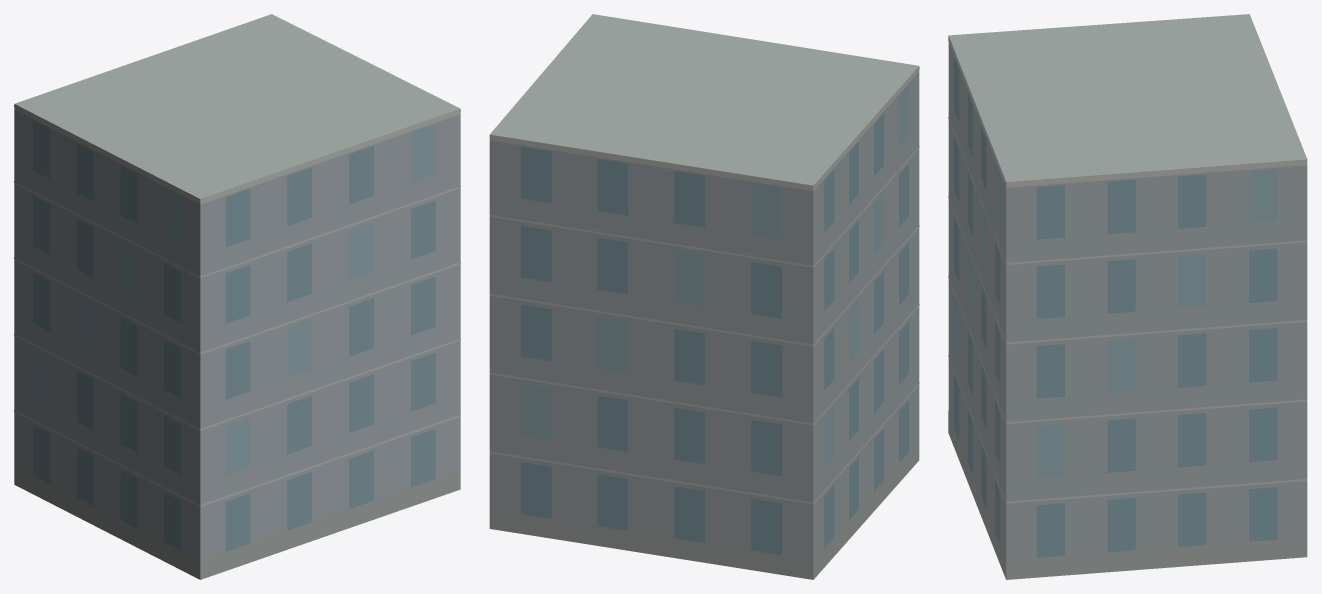
File: survey-upis-32801730.glb
3 views of the same model, side by side, from view 1: azimuth 30°, elevation 25°; view 2: azimuth 150°, elevation 25°; view 3: azimuth 270°, elevation 25° (orthographic). The views are drawn at different scales.
Parts seen in each view (by area): view 1: survey-upis-32801730.tmp; view 2: survey-upis-32801730.tmp; view 3: survey-upis-32801730.tmp.
Boxes of the visible parts, x1,y1,x2,y2 form: survey-upis-32801730.tmp: [14, 14, 460, 579]; survey-upis-32801730.tmp: [489, 14, 919, 579]; survey-upis-32801730.tmp: [948, 14, 1307, 579].
Bounding box in the file's own units: 15.27 × 16.82 × 13.78.
